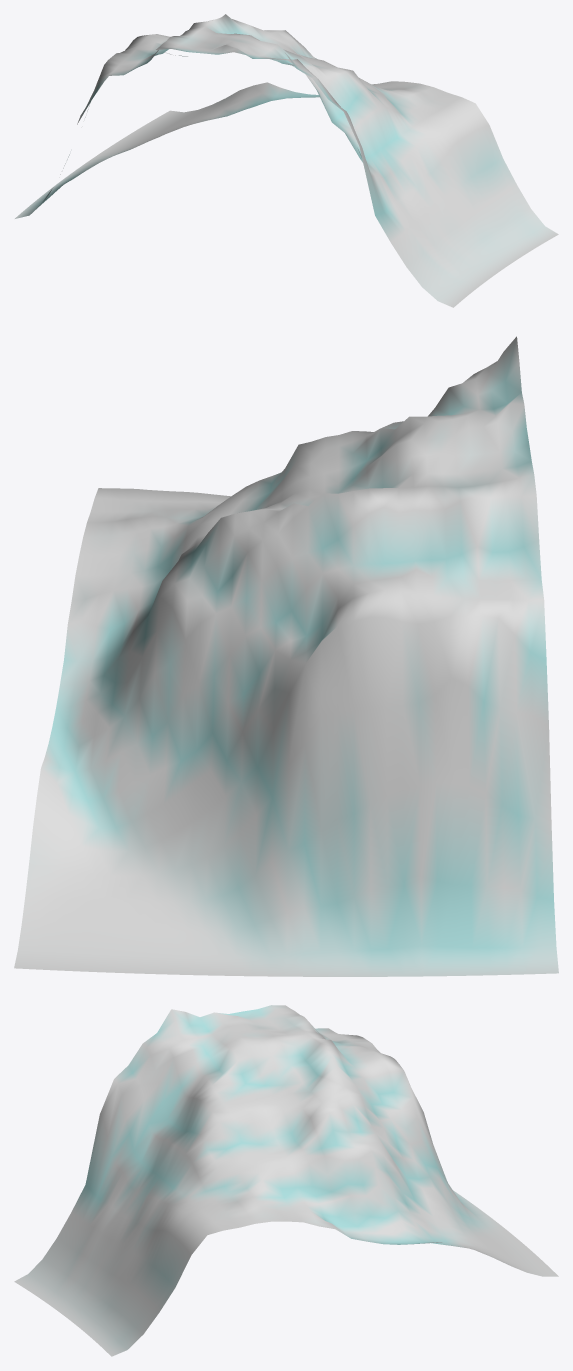
File: middle_7.glb
3 views of the same model, one above another, from view 1: azimuth 30°, elevation 25°; view 2: azimuth 150°, elevation 25°; view 3: azimuth 270°, elevation 25° (orthographic). The views are drawn at different scales.
Parts seen in each view (by area): view 1: Mountain; view 2: Mountain; view 3: Mountain.
Part boxes in pixels (box(x1,y1,x2,y2)): Mountain: box(15, 14, 558, 307); Mountain: box(14, 336, 558, 976); Mountain: box(14, 1005, 558, 1356).
Bounding box in the file's own units: 559 × 309 × 673.
